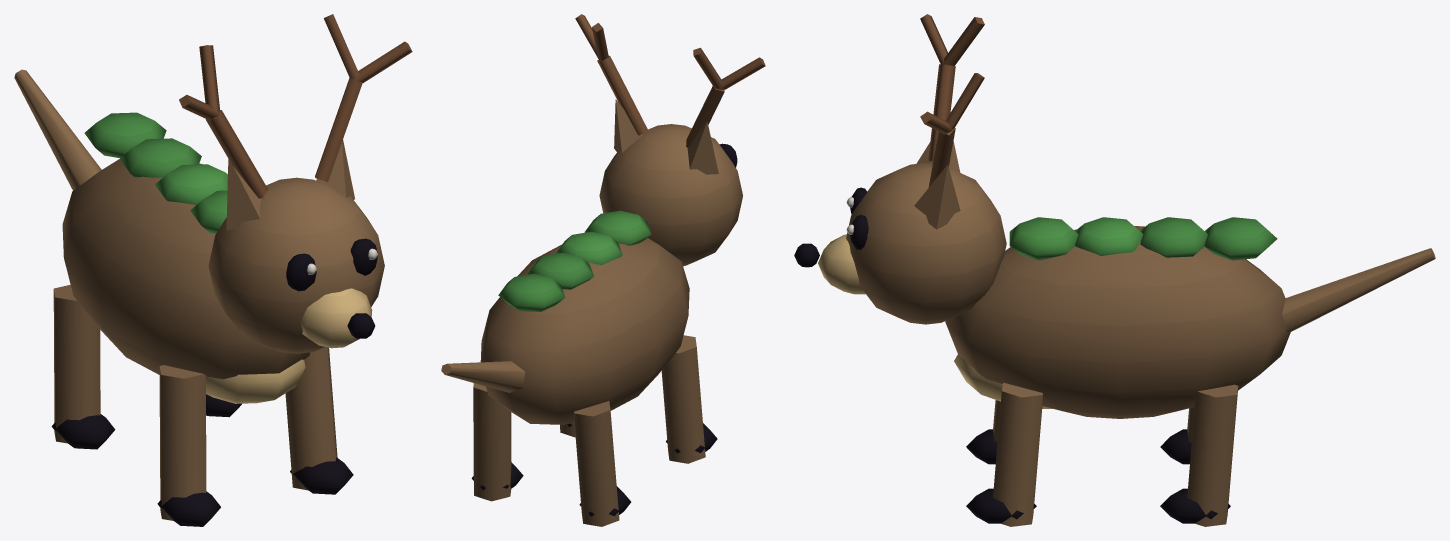
File: monster_moss_deer.glb
3 views of the same model, side by side, from view 1: azimuth 30°, elevation 25°; view 2: azimuth 150°, elevation 25°; view 3: azimuth 270°, elevation 25° (orthographic). The views are drawn at different scales.
Visible parts, largest first — view 1: body_t0_palette, legl_t0_palette, legr_t0_palette, tail_t0_palette; view 2: body_t0_palette, legl_t0_palette, legr_t0_palette, tail_t0_palette; view 3: body_t0_palette, legr_t0_palette, tail_t0_palette, legl_t0_palette.
Part boxes in pixels (<box>): body_t0_palette: <box>62,14,412,403</box>; legl_t0_palette: <box>51,284,220,526</box>; legr_t0_palette: <box>206,347,353,494</box>; tail_t0_palette: <box>14,69,101,190</box>; body_t0_palette: <box>480,14,765,424</box>; legl_t0_palette: <box>574,335,717,526</box>; legr_t0_palette: <box>471,383,575,501</box>; tail_t0_palette: <box>441,361,525,392</box>; body_t0_palette: <box>794,14,1290,418</box>; legr_t0_palette: <box>966,382,1238,526</box>; tail_t0_palette: <box>1282,248,1435,331</box>; legl_t0_palette: <box>966,400,1194,464</box>.
Bounding box in the file's own units: 0.226 × 0.4564 × 0.5945.
